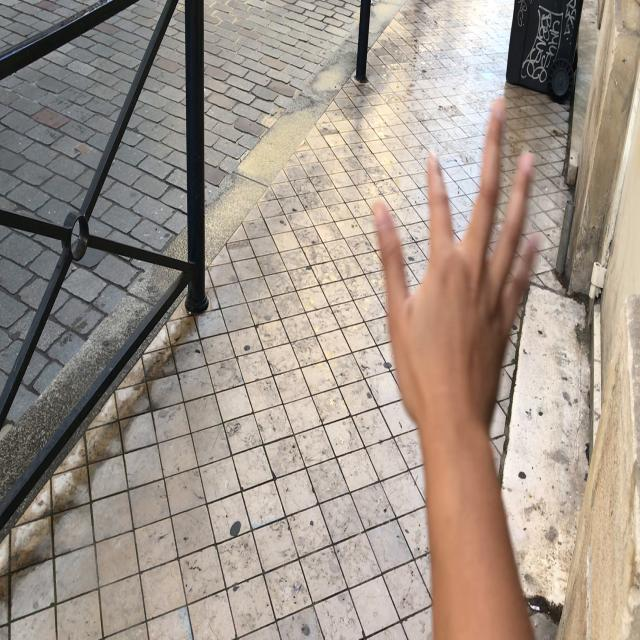hand: (371, 94, 540, 427)
